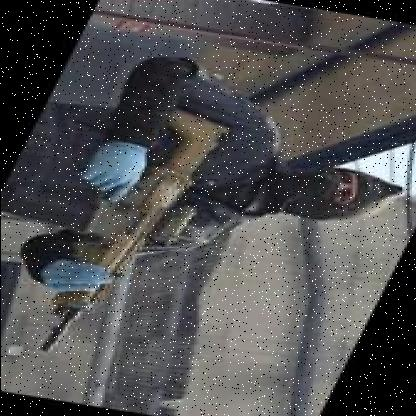rifle: (3, 102, 245, 370)
